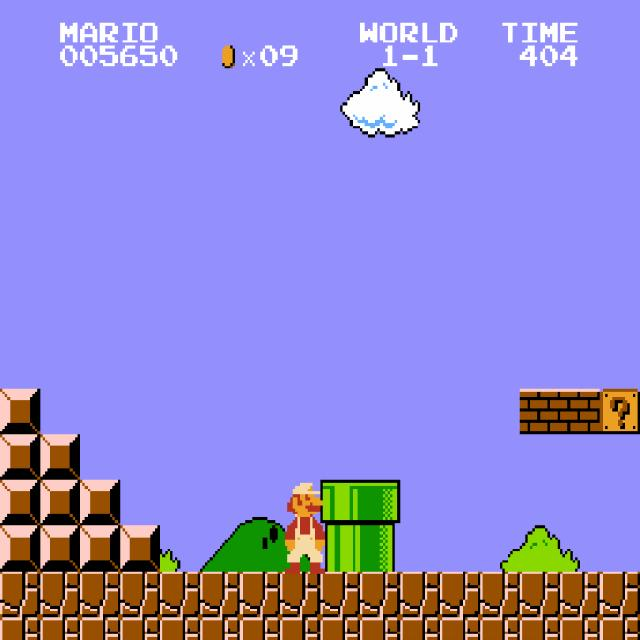brick_block: (520, 389, 560, 434), (560, 389, 600, 434)
fire_mario: (285, 480, 327, 574)
hard_block: (0, 388, 40, 434), (0, 525, 40, 571), (40, 434, 80, 480), (40, 480, 80, 526), (80, 480, 120, 526), (0, 434, 40, 479), (0, 480, 40, 525), (40, 526, 80, 571), (80, 526, 120, 571), (120, 526, 160, 571)
mystery_block: (599, 388, 640, 434)
pipe: (320, 526, 360, 571), (360, 526, 400, 571)
pipe_head: (320, 480, 360, 526), (360, 480, 400, 526)
undestructible_block: (599, 571, 640, 617), (0, 571, 40, 617), (40, 572, 80, 617), (80, 572, 120, 617), (120, 572, 160, 617), (160, 572, 200, 617), (200, 572, 240, 617), (240, 572, 280, 617), (280, 572, 320, 617), (320, 572, 360, 617), (360, 572, 400, 617), (400, 572, 440, 617), (440, 572, 480, 617), (480, 572, 520, 617), (520, 572, 560, 617), (560, 572, 600, 617), (40, 617, 80, 640), (80, 617, 120, 640), (120, 617, 160, 640), (160, 617, 200, 640), (200, 617, 240, 640), (240, 617, 280, 640), (280, 617, 320, 640), (320, 617, 360, 640), (360, 617, 400, 640), (400, 617, 440, 640), (440, 617, 480, 640), (480, 617, 520, 640), (520, 617, 560, 640), (560, 617, 600, 640), (599, 617, 640, 639), (0, 617, 40, 639)
